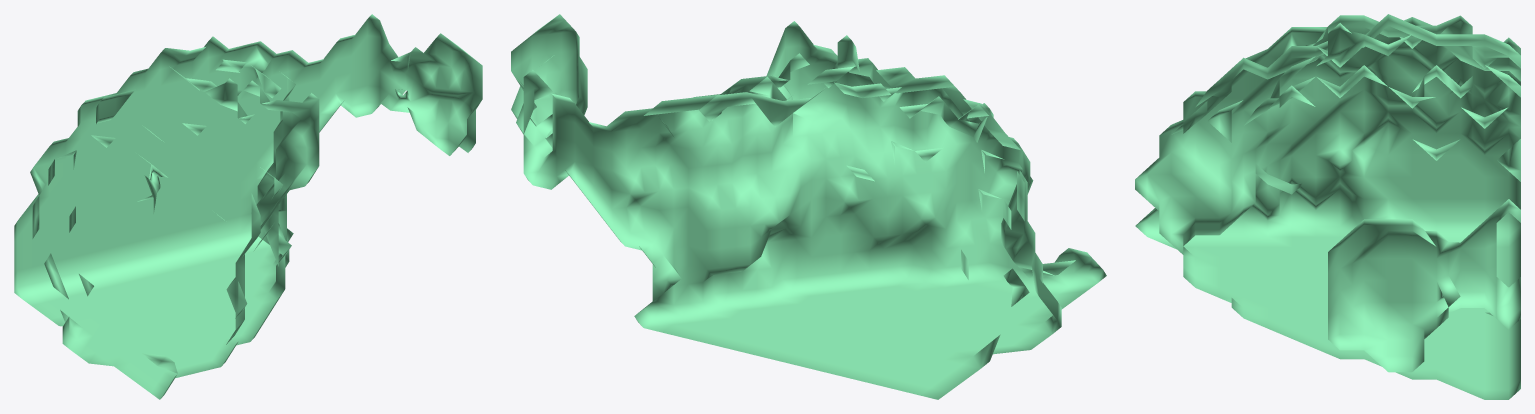
The model's file is osteocyte_20.glb.
3 renders of one model, left to right at view 1: azimuth 30°, elevation 25°; view 2: azimuth 150°, elevation 25°; view 3: azimuth 270°, elevation 25°, orthographic. The views are drawn at different scales.
Parts seen in each view (by area): view 1: osteocyte_20; view 2: osteocyte_20; view 3: osteocyte_20.
Part boxes in pixels (x1,y1,x2,y2): osteocyte_20: (14,14,482,399); osteocyte_20: (511,14,1106,399); osteocyte_20: (1135,14,1520,399).
Size of the model in its own units: 12.07 by 6.26 by 7.15.
